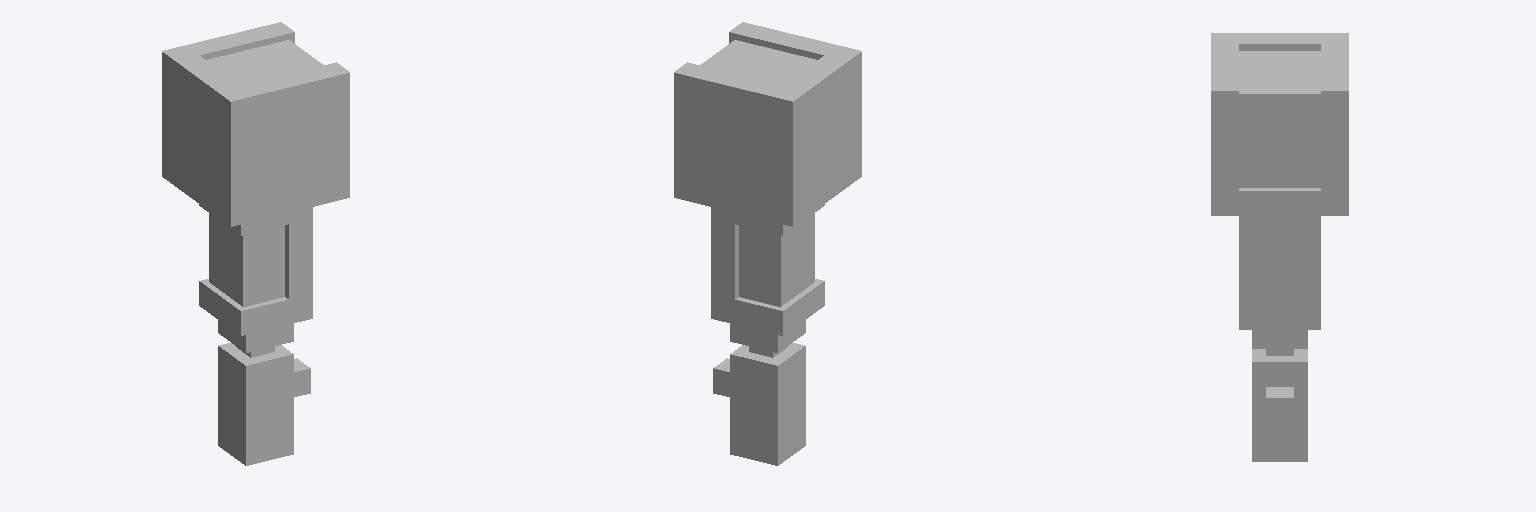
Rendered from arm_nozzle_r.obj.
The picture shows the model from 3 angles: view 1: azimuth 30°, elevation 25°; view 2: azimuth 150°, elevation 25°; view 3: azimuth 270°, elevation 25°; orthographic projection.
Visible parts, largest first — view 1: ARM_RIGHT_NOZZLE.OBSVAR_Cube.332; view 2: ARM_RIGHT_NOZZLE.OBSVAR_Cube.332; view 3: ARM_RIGHT_NOZZLE.OBSVAR_Cube.332.
Part boxes in pixels (bbox=[...]): ARM_RIGHT_NOZZLE.OBSVAR_Cube.332: bbox=[162, 22, 349, 465]; ARM_RIGHT_NOZZLE.OBSVAR_Cube.332: bbox=[674, 22, 861, 465]; ARM_RIGHT_NOZZLE.OBSVAR_Cube.332: bbox=[1211, 33, 1348, 461].
Size of the model in its own units: 0.3125 by 0.9688 by 0.3125.